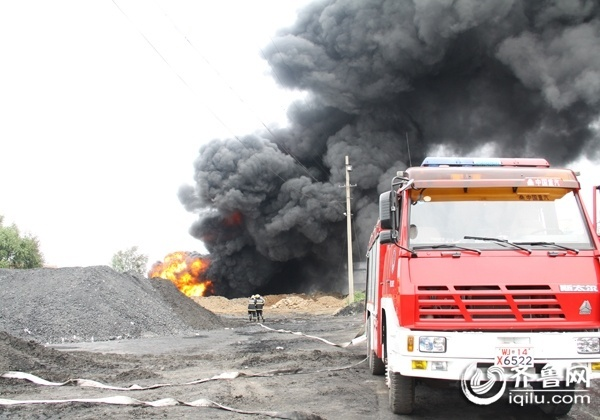fire: (150, 249, 212, 300)
